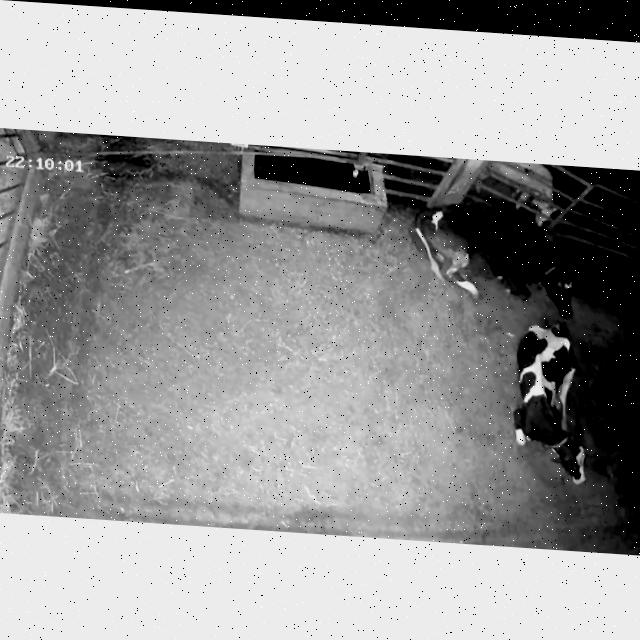lay: (408, 195, 598, 322), (501, 316, 599, 495)
